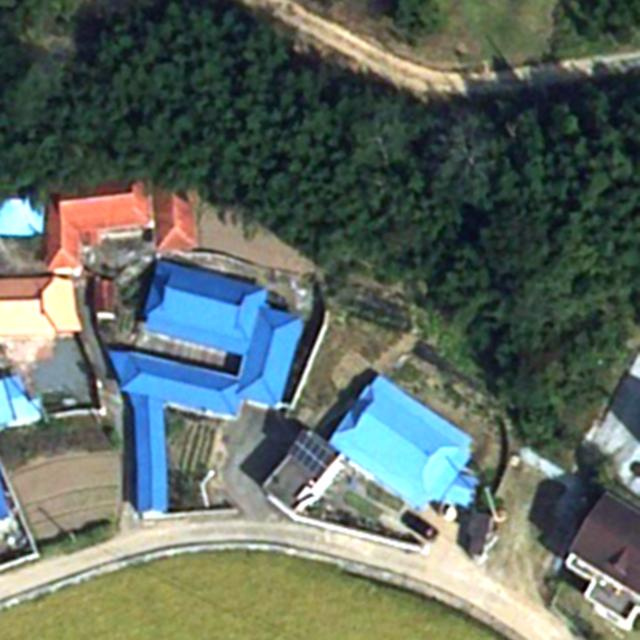solarpanel: (286, 429, 330, 474)
